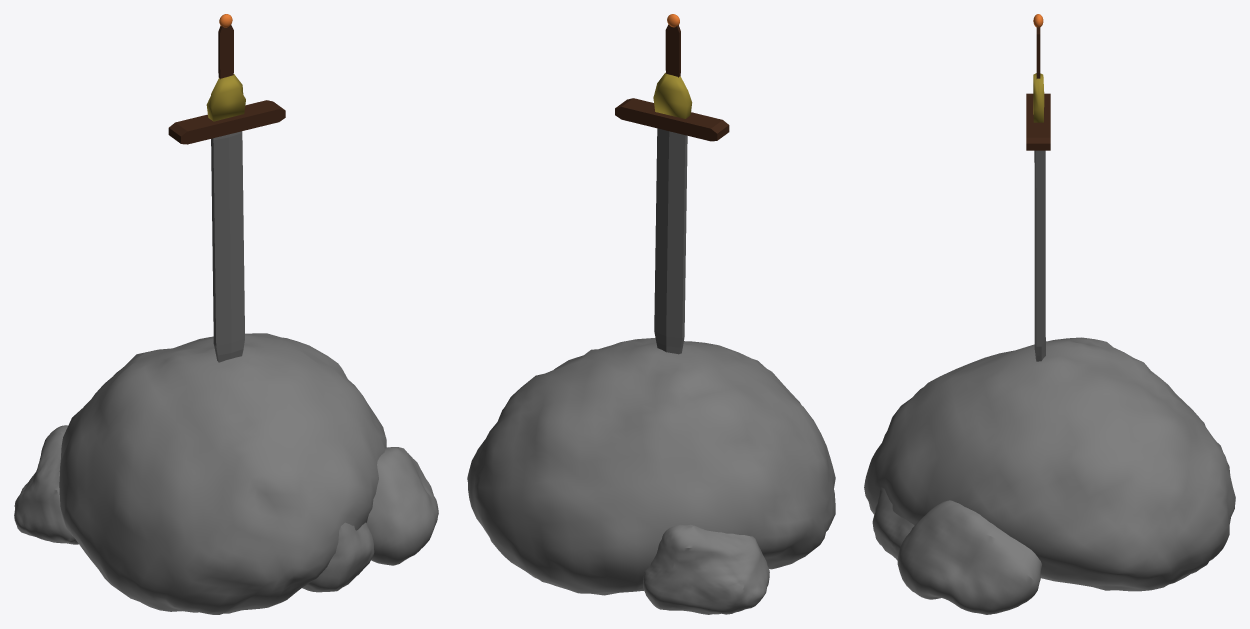
File: sword.fbx
The picture shows the model from 3 angles, left to right: view 1: azimuth 30°, elevation 25°; view 2: azimuth 150°, elevation 25°; view 3: azimuth 270°, elevation 25°; orthographic projection. The views are drawn at different scales.
Visible parts, largest first — view 1: rock, Plane, rock.001, rock.003, rock.002, Plane.002, Plane.001, Plane.003; view 2: rock, rock.003, Plane, Plane.002, Plane.001, Plane.003; view 3: rock, rock.001, Plane, rock.002, Plane.002, Plane.001.
Boxes of the visible parts, x1,y1,x2,y2 form: rock: (59,333,386,614); Plane: (211,131,244,362); rock.001: (366,447,438,565); rock.003: (14,425,78,544); rock.002: (302,522,374,592); Plane.002: (168,100,285,144); Plane.001: (206,74,245,121); Plane.003: (218,24,233,79); rock: (467,338,835,595); rock.003: (643,524,769,614); Plane: (654,128,687,354); Plane.002: (615,98,729,141); Plane.001: (653,72,692,118); Plane.003: (665,24,680,77); rock: (864,337,1235,591); rock.001: (897,500,1041,614); Plane: (1034,150,1045,361); rock.002: (872,487,914,560); Plane.002: (1026,93,1050,150); Plane.001: (1033,73,1044,122).
Size of the model in its own units: 318 by 510 by 315.
